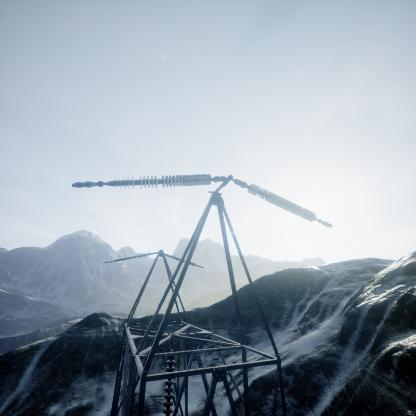insulator: (247, 181, 335, 228), (69, 173, 214, 188)
